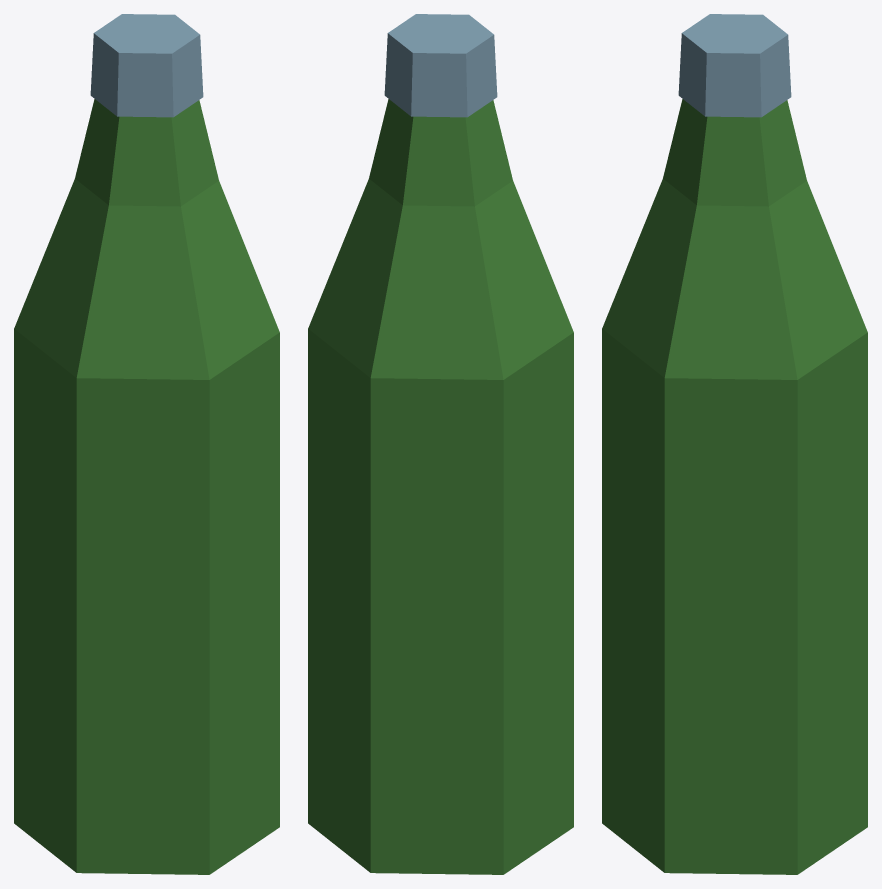
Rendered from Bathroom2_bottle.fbx.
The picture shows the model from 3 angles, left to right: view 1: azimuth 30°, elevation 25°; view 2: azimuth 150°, elevation 25°; view 3: azimuth 270°, elevation 25°; orthographic projection.
Visible parts, largest first — view 1: Bathroom2_bottle; view 2: Bathroom2_bottle; view 3: Bathroom2_bottle.
Part boxes in pixels (<box>): Bathroom2_bottle: <box>14,14,279,874</box>; Bathroom2_bottle: <box>308,14,573,874</box>; Bathroom2_bottle: <box>602,14,867,874</box>.
Size of the model in its own units: 8.65 by 32.19 by 9.8.
